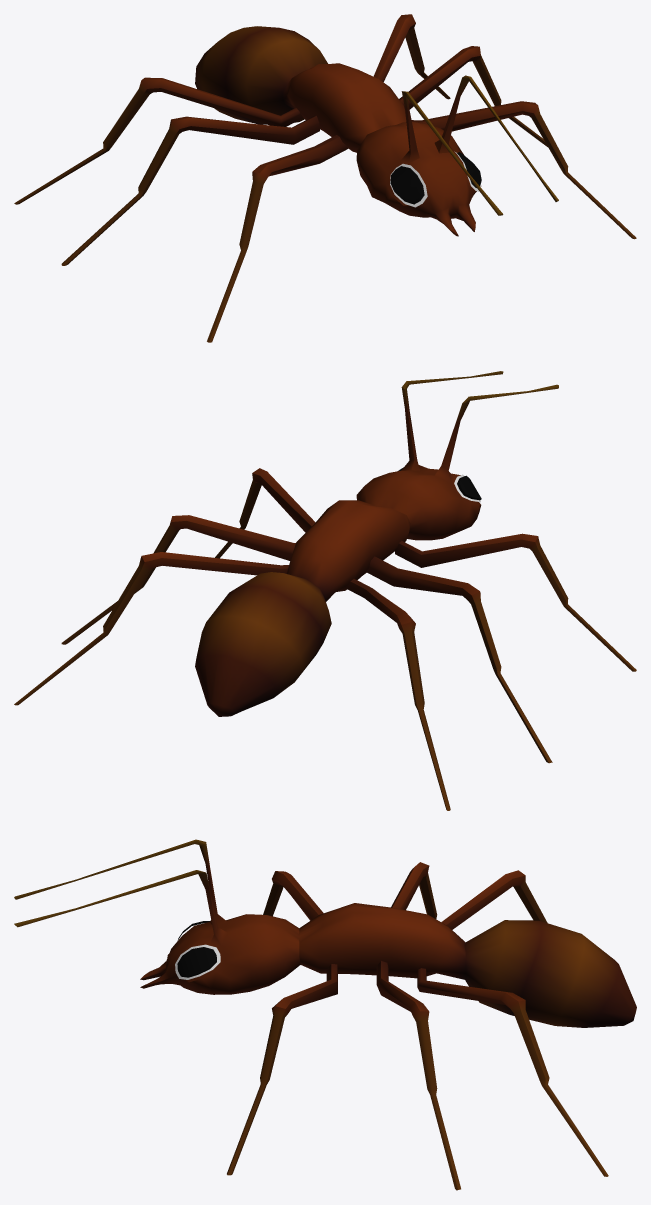
The model's file is kit-fire-ant.glb.
The picture shows the model from 3 angles, top to bottom: view 1: azimuth 30°, elevation 25°; view 2: azimuth 150°, elevation 25°; view 3: azimuth 270°, elevation 25°; orthographic projection.
Visible parts, largest first — view 1: base; view 2: base; view 3: base.
Part boxes in pixels (box(x1,y1,x2,y2)): base: box(14, 14, 636, 342); base: box(14, 371, 636, 810); base: box(14, 839, 636, 1190).
Bounding box in the file's own units: 1.42 × 0.6013 × 1.57.
